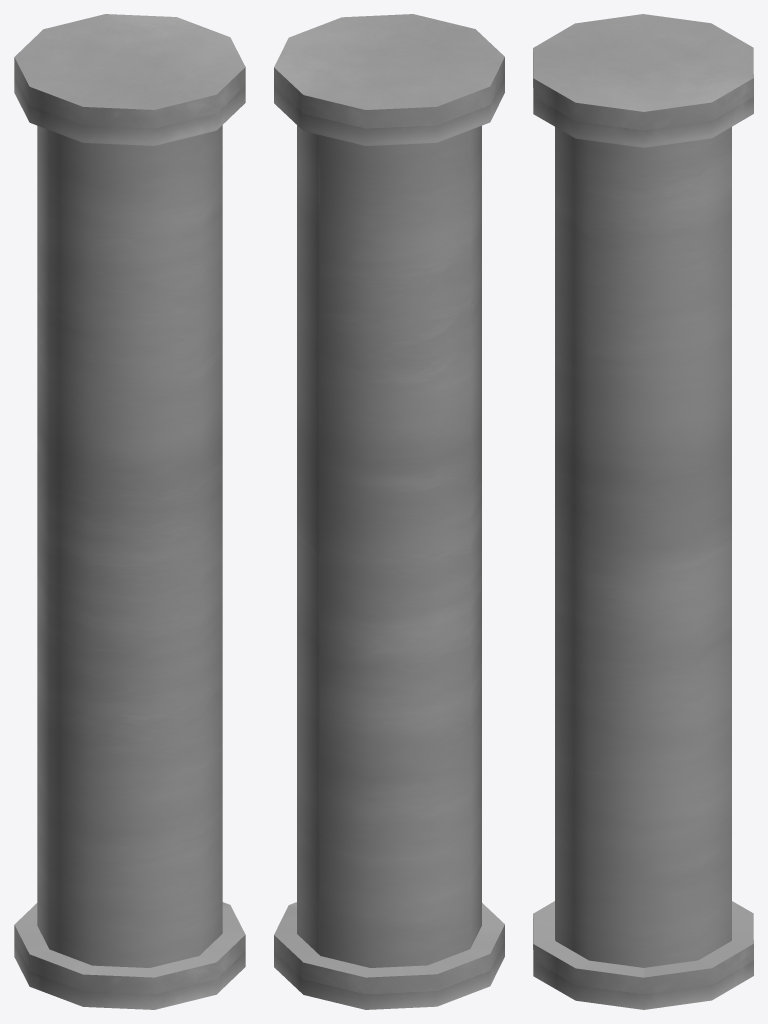
Rendered from straightPipe.fbx.
3 views of the same model, side by side, from view 1: azimuth 30°, elevation 25°; view 2: azimuth 150°, elevation 25°; view 3: azimuth 270°, elevation 25° (orthographic).
Visible parts, largest first — view 1: straightPipe2; view 2: straightPipe2; view 3: straightPipe2.
Part boxes in pixels (box(x1,y1,x2,y2)): straightPipe2: box(14, 14, 245, 1009); straightPipe2: box(274, 14, 504, 1009); straightPipe2: box(533, 14, 753, 1009).
Bounding box in the file's own units: 117 × 500 × 111.
